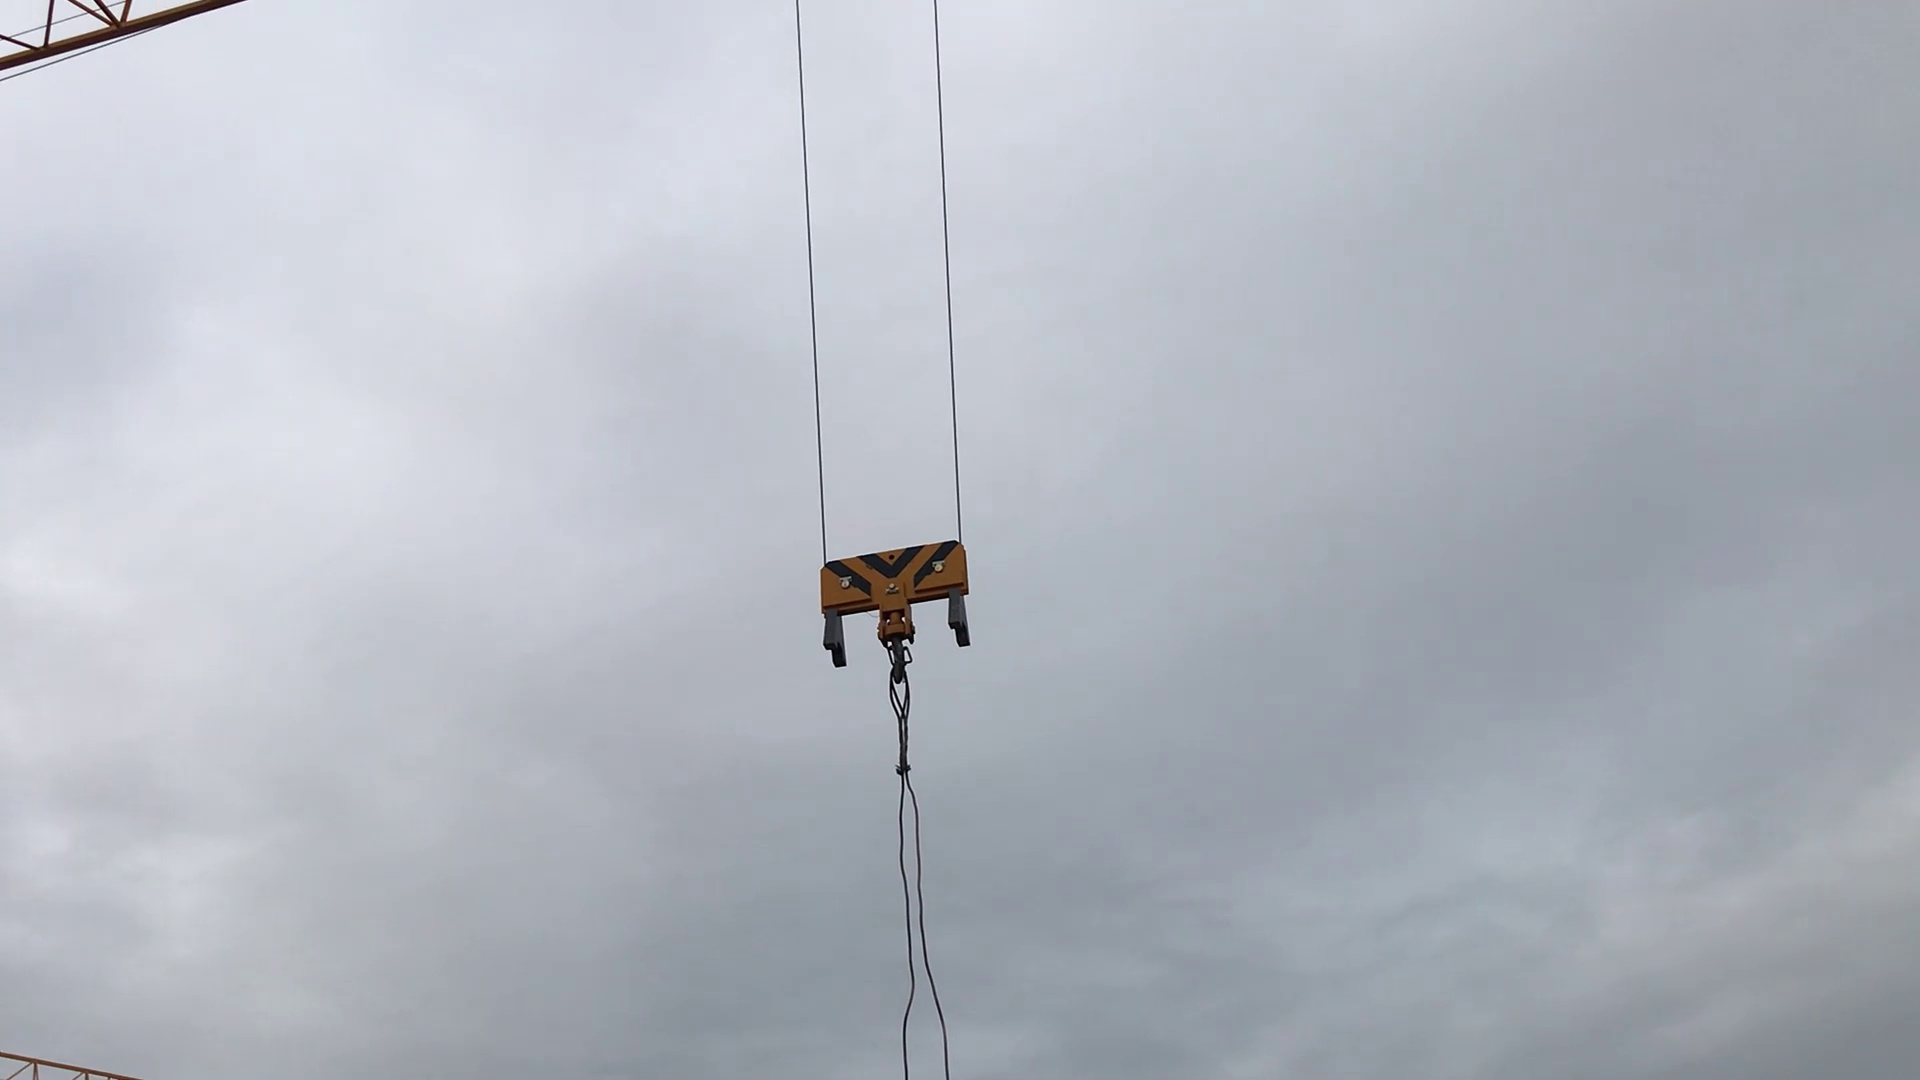hook: (800, 537, 986, 665)
